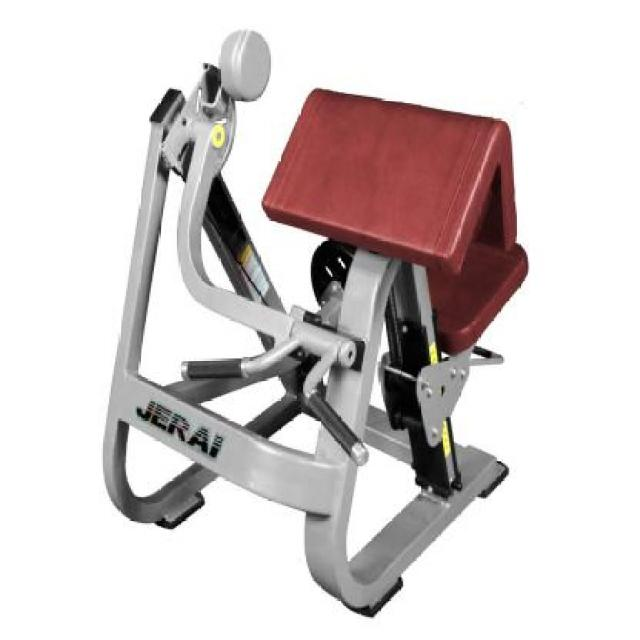arm curl machine: (103, 29, 531, 618)
